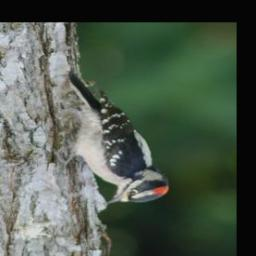Woodpecker: (58, 68, 172, 209)
